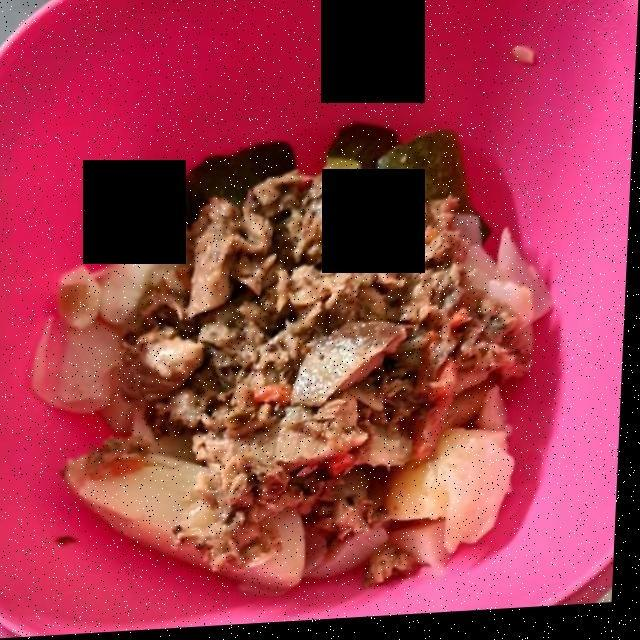potatoes: (62, 212, 532, 607)
zucchini: (180, 126, 472, 211)
